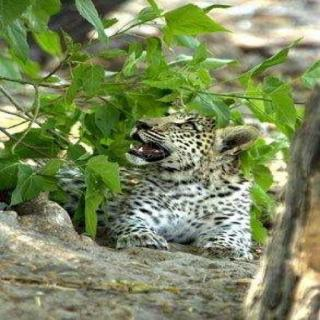Leopard: (73, 99, 261, 267)
